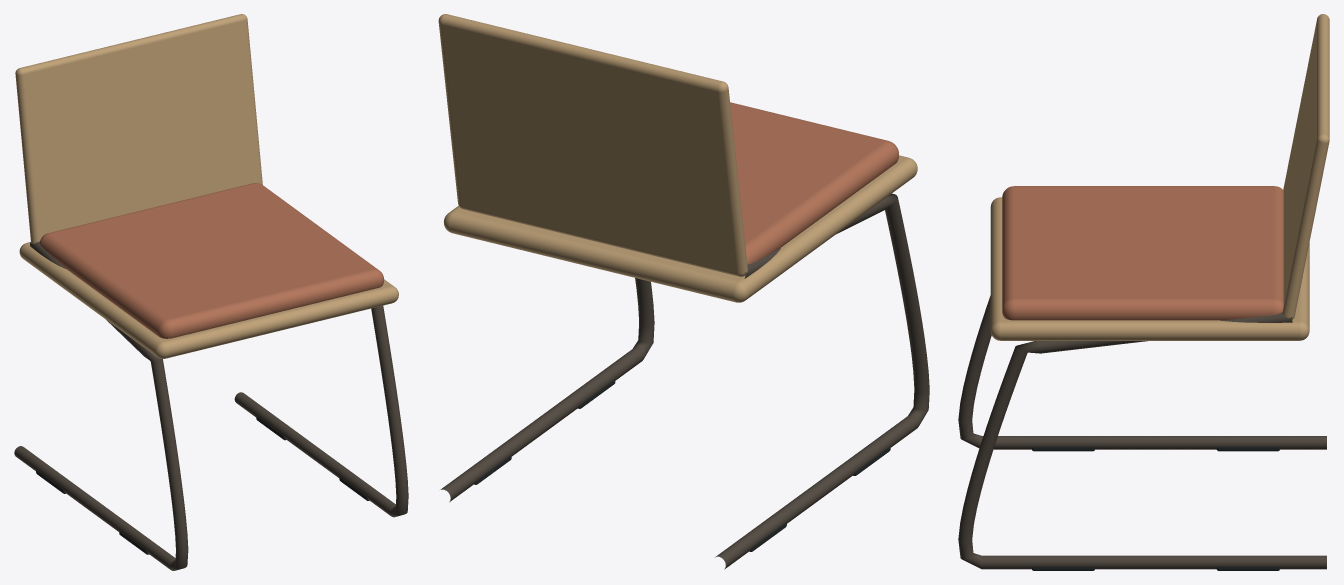
File: atelier-sidechair-terracotta.glb
3 views of the same model, side by side, from view 1: azimuth 30°, elevation 25°; view 2: azimuth 150°, elevation 25°; view 3: azimuth 270°, elevation 25° (orthographic). The views are drawn at different scales.
Visible parts, largest first — view 1: mesh_9, mesh_8, mesh_7, mesh_0, mesh_3; view 2: mesh_9, mesh_8, mesh_7, mesh_0, mesh_3; view 3: mesh_8, mesh_3, mesh_7, mesh_9, mesh_0.
Boxes of the visible parts, x1,y1,x2,y2 form: mesh_9: (15,14,262,243); mesh_8: (39,183,383,338); mesh_7: (19,242,398,358); mesh_0: (14,241,188,570); mesh_3: (234,305,408,517); mesh_9: (438,14,747,276); mesh_8: (730,102,898,264); mesh_7: (444,155,917,302); mesh_0: (715,193,929,569); mesh_3: (440,278,654,502); mesh_8: (1002,186,1283,320); mesh_3: (958,312,1326,569); mesh_7: (990,197,1309,340); mesh_9: (1282,14,1329,319); mesh_0: (958,295,1326,449).
Bounding box in the file's own units: 0.5076 × 0.7797 × 0.6039.
